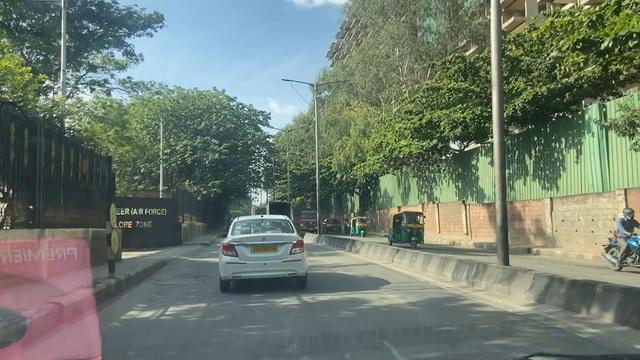RoadDamages: (152, 265, 208, 291)
